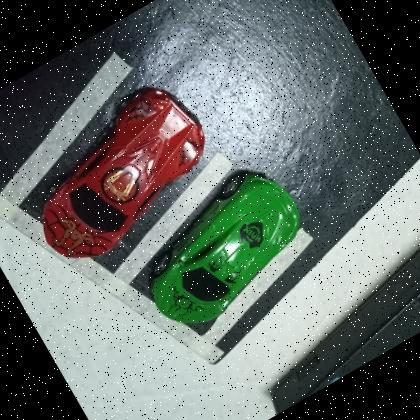Car: (4, 70, 234, 277), (118, 154, 325, 342)
